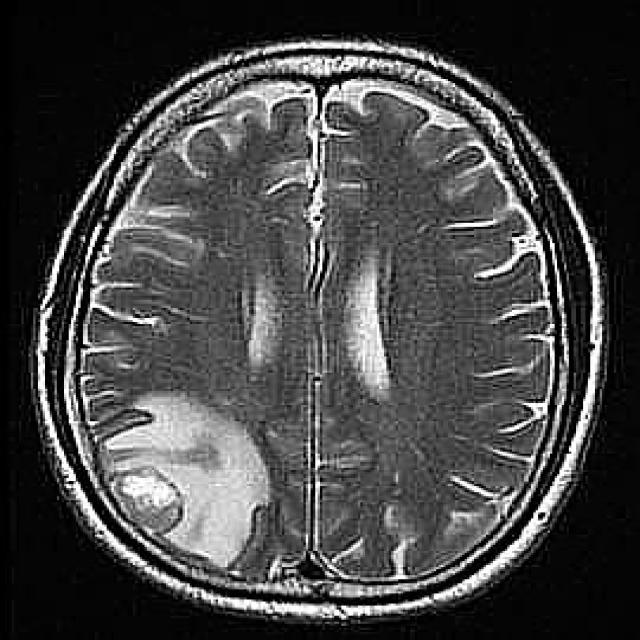Tumor-Cell: (79, 385, 292, 565)
